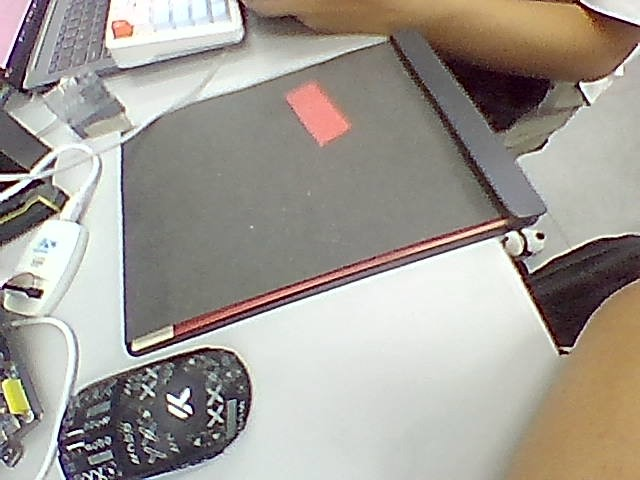card: (287, 82, 350, 146)
